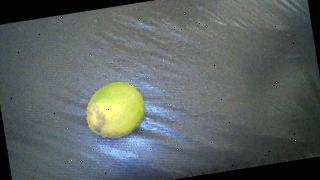DESECHO: (82, 78, 149, 141)
